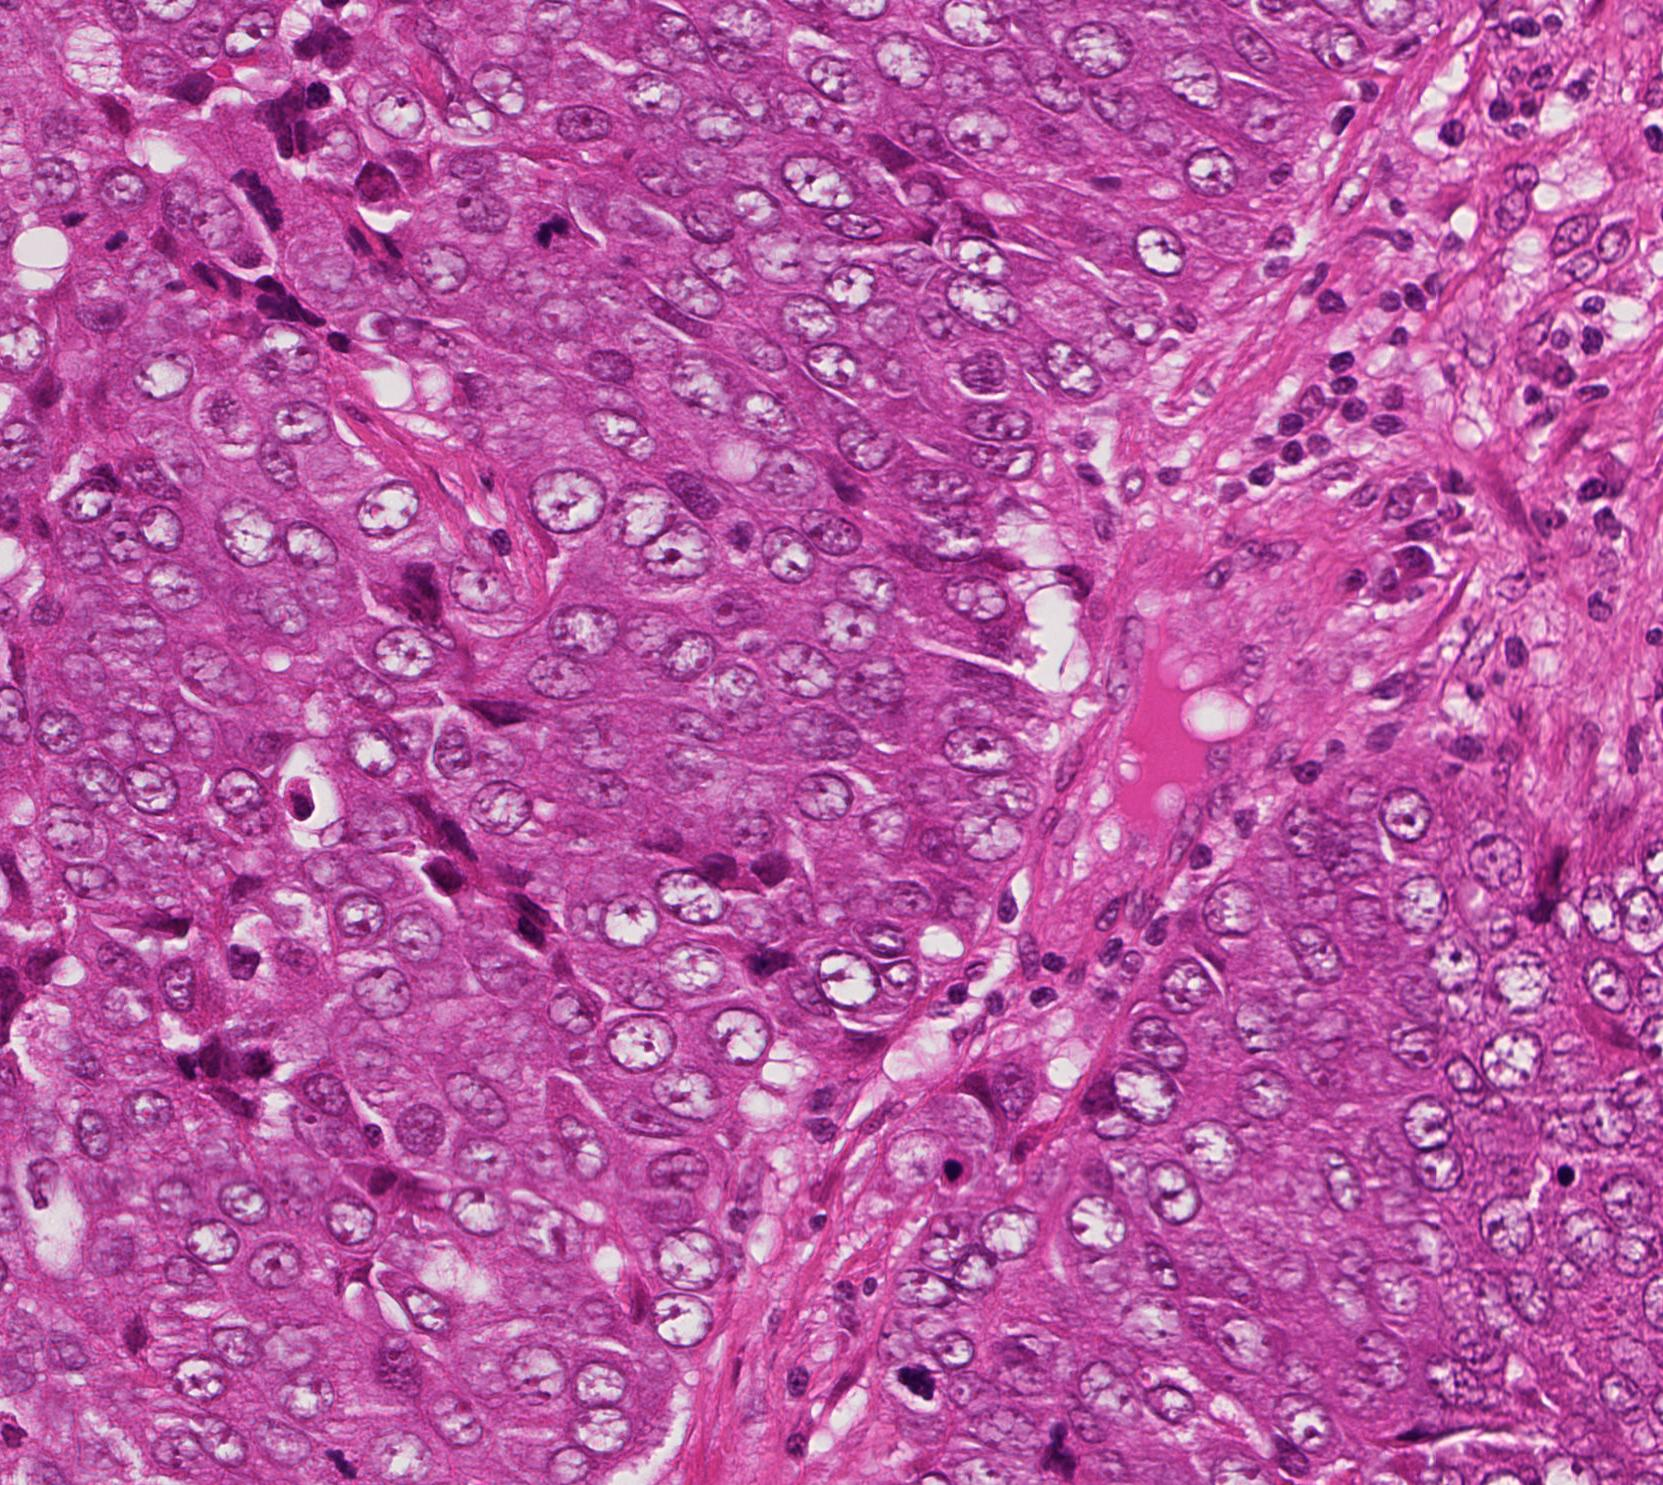mitosis: (1028, 1408, 1088, 1468), (529, 196, 589, 257), (65, 204, 125, 262), (304, 1418, 364, 1476)
